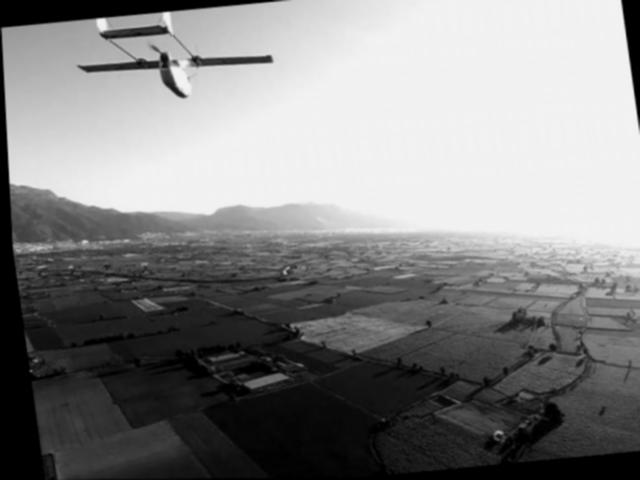hedef: (62, 2, 282, 147)
